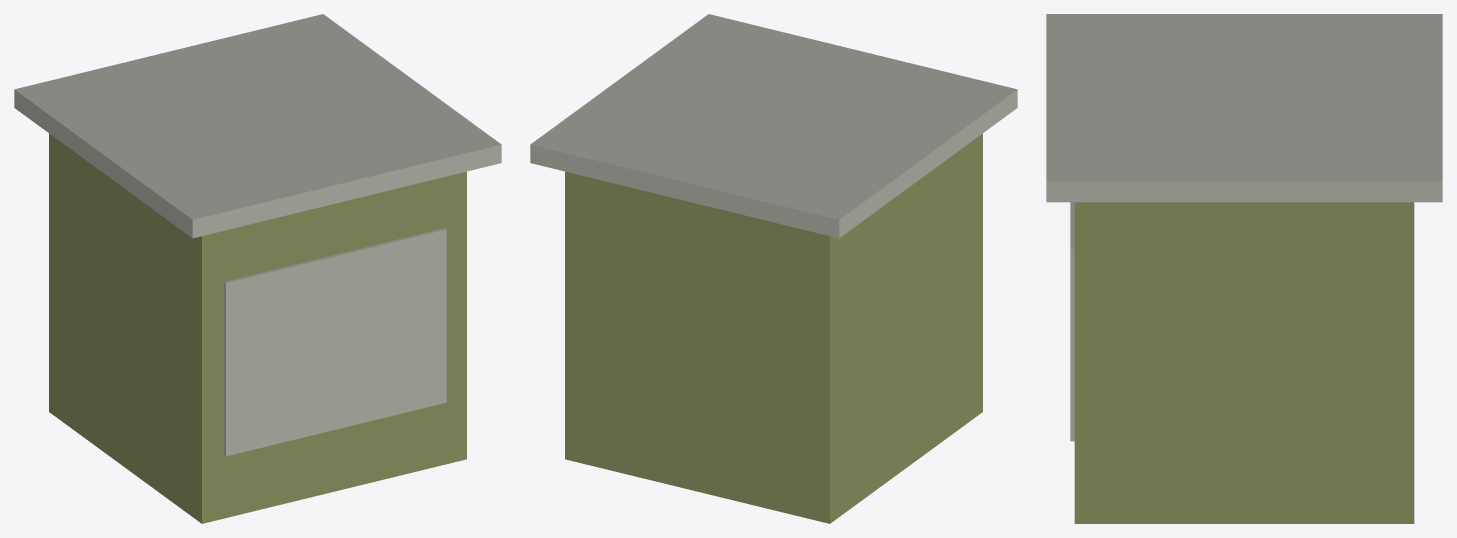
Rendered from SM_Quiosco_v0_Cerrado_LOD0.fbx.
3 renders of one model, left to right at view 1: azimuth 30°, elevation 25°; view 2: azimuth 150°, elevation 25°; view 3: azimuth 270°, elevation 25°, orthographic. The views are drawn at different scales.
Visible parts, largest first — view 1: SM_urbano_extra_v10_LOD0; view 2: SM_urbano_extra_v10_LOD0; view 3: SM_urbano_extra_v10_LOD0.
Boxes of the visible parts, box(x1,y1,x2,y2) form: SM_urbano_extra_v10_LOD0: box(14, 14, 501, 523); SM_urbano_extra_v10_LOD0: box(530, 14, 1017, 523); SM_urbano_extra_v10_LOD0: box(1046, 14, 1442, 523).
Size of the model in its own units: 2.8 by 2.76 by 2.8.
